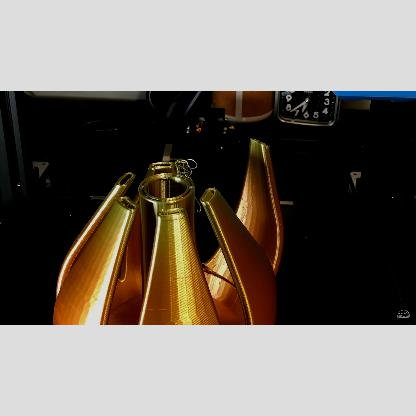fail: (176, 155, 197, 175)
